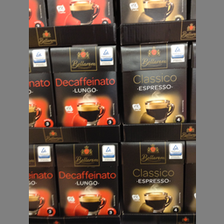coffee: (51, 45, 120, 125), (121, 43, 187, 123), (55, 143, 120, 217), (120, 141, 185, 214)
